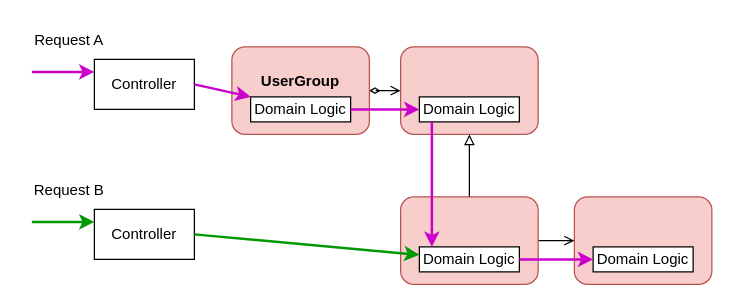
This 734x306 diagram has some shape labels left out. The box of each missing label's shape, as (x1, y1, x2, y2) in pixels:
Investor: (399, 196, 538, 284)
User: (399, 46, 538, 134)
Wallet: (573, 196, 712, 284)
